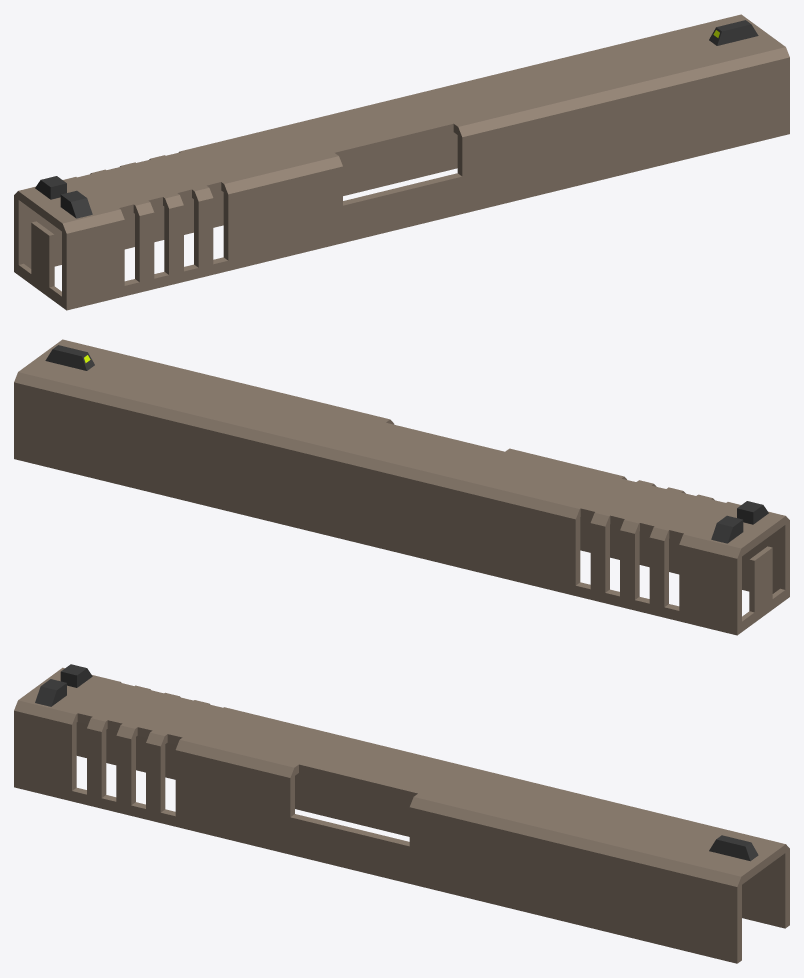
The model's file is Pistol4_02_2.fbx.
3 views of the same model, one above another, from view 1: azimuth 30°, elevation 25°; view 2: azimuth 150°, elevation 25°; view 3: azimuth 330°, elevation 25° (orthographic).
Parts seen in each view (by area): view 1: Pistol4_02_2; view 2: Pistol4_02_2; view 3: Pistol4_02_2.
Part boxes in pixels (x1,y1,x2,y2): Pistol4_02_2: (14,14,789,310); Pistol4_02_2: (14,339,789,635); Pistol4_02_2: (14,664,789,963).
Size of the model in its own units: 0.224 by 0.0286 by 0.0283.
